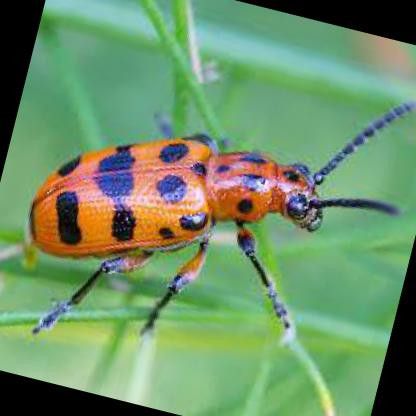blister beetle: (23, 102, 415, 348)
